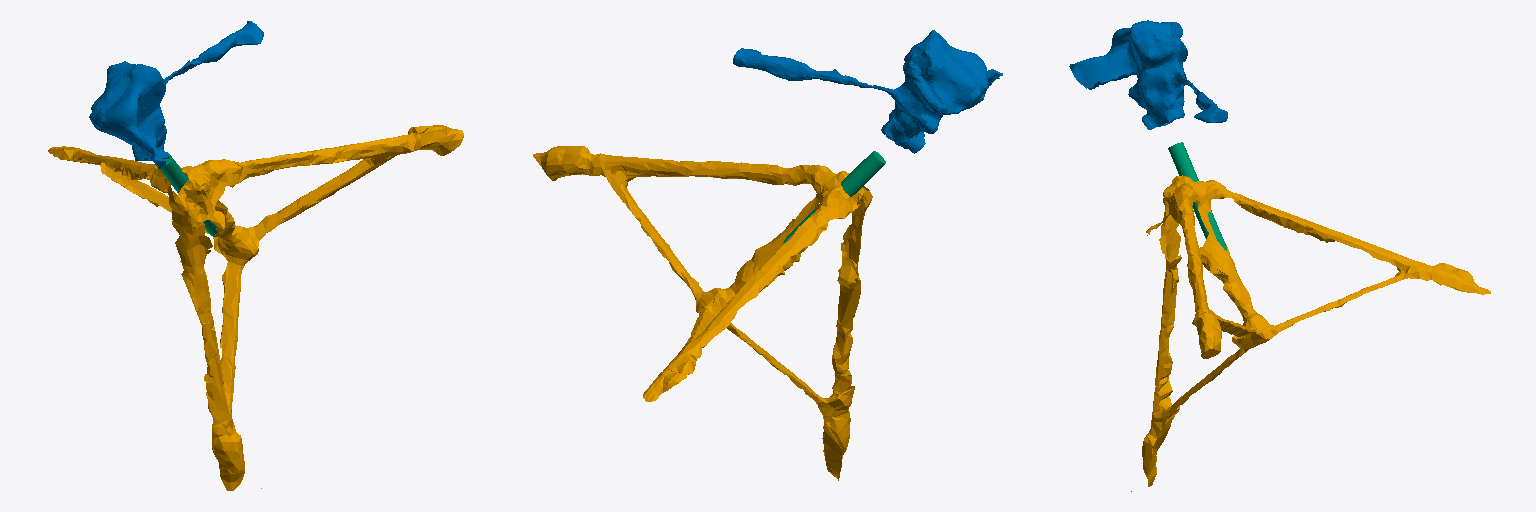
The robot description file, URDF, robot "tripod":
<?xml version="1.0"?>
<robot name="tripod">
  <link name ="rb0">
    <visual>
      <origin xyz='0.173131 -0.106711 -0.348556' rpy='-1.822664 -0.791293 0.969150'/>
      <geometry>
        <mesh filename="package://articulated_objects_db/data/objects/tripod/meshes/tripod_base.obj"  scale="1 1 1" />
      </geometry>
    </visual>
  </link>
  <joint name="j_0_1" type="prismatic">
    <parent link="rb0"/>
    <child link="rb1"/>
    <origin xyz="-0.0557422834615 -0.30153227017 0.112436414637" rpy="0 0 0 "/>
    <axis xyz="-0.576042484972 -0.396680299208 0.714716584198"/>
    <limit effort="30" velocity="1.0" lower="-3.1416" upper="3.1416"/>
  </joint>
  <joint name="j_0_fixed" type="fixed">
    <parent link="rb1"/>
    <child link="rb1_marker"/>
      <origin xyz="0.0 0.0 0.0" rpy="-2.27168823976 -0.470613714689 1.75246146617"/>
    <limit effort="30" velocity="1.0" lower="-3.1416" upper="3.1416"/>
  </joint>
  <joint name="j_1_2" type="revolute">
    <parent link="rb1_marker"/>
    <child link="rb2"/>
    <origin xyz="0.037575760954 -0.184474986612 0.0280732165517" rpy="0 0 0 "/>
    <axis xyz="0.0505822345588 -0.998534848066 -0.0192248470896"/>
    <limit effort="30" velocity="1.0" lower="-3.1416" upper="3.1416"/>
  </joint>
  <joint name="j_1_fixed" type="fixed">
    <parent link="rb2"/>
    <child link="rb2_marker"/>
      <origin xyz="-0.10603294918 -0.00539413476512 -0.00487914155183" rpy="2.88451335023 0.21992877598 1.55489524731"/>
    <limit effort="30" velocity="1.0" lower="-3.1416" upper="3.1416"/>
  </joint>
  <link name ="rb1">
  </link>
  <link name ="rb1_marker">
    <visual>
      <origin xyz='0.018653 0.288958 0.047173' rpy='3.119540 -0.823431 -3.032967'/>
      <geometry>
        <mesh filename="package://articulated_objects_db/data/objects/tripod/meshes/tripod_rod.obj"  scale="1 1 1" />
      </geometry>
    </visual>
  </link>
  <link name ="rb2">
  </link>
  <link name ="rb2_marker">
    <visual>
      <origin xyz='0.266677 0.095476 0.024630' rpy='-2.759276 -0.382808 1.363461'/>
      <geometry>
        <mesh filename="package://articulated_objects_db/data/objects/tripod/meshes/tripod_top.obj"  scale="1 1 1" />
      </geometry>
    </visual>
  </link>
</robot>

--- What the picture shows (computed from the rendered views, not written in the file) ---
The picture shows the robot from 3 angles, left to right: view 1: azimuth 30°, elevation 25°; view 2: azimuth 150°, elevation 25°; view 3: azimuth 270°, elevation 25°; orthographic projection.
Model tripod with 5 links and 4 joints (1 revolute, 1 prismatic, 2 fixed), rooted at rb0, posed all joints at 0.
Visible links, largest first — view 1: rb0, rb2_marker, rb1_marker; view 2: rb0, rb2_marker, rb1_marker; view 3: rb0, rb2_marker, rb1_marker.
Boxes of the visible links, left/top/right/bottom form: rb0: left=48, top=125, right=463, bottom=490; rb2_marker: left=89, top=21, right=263, bottom=168; rb1_marker: left=160, top=152, right=216, bottom=236; rb0: left=533, top=146, right=872, bottom=480; rb2_marker: left=733, top=30, right=1002, bottom=153; rb1_marker: left=783, top=151, right=885, bottom=242; rb0: left=1131, top=175, right=1490, bottom=491; rb2_marker: left=1069, top=20, right=1227, bottom=129; rb1_marker: left=1168, top=142, right=1236, bottom=270.
Bounding box of the posed robot: 0.8037 × 0.7743 × 0.8591 m (x, y, z).
3 mesh visuals loaded from 3 distinct referenced files (3 OBJ).